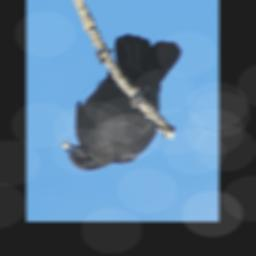Crow: (61, 33, 182, 172)
